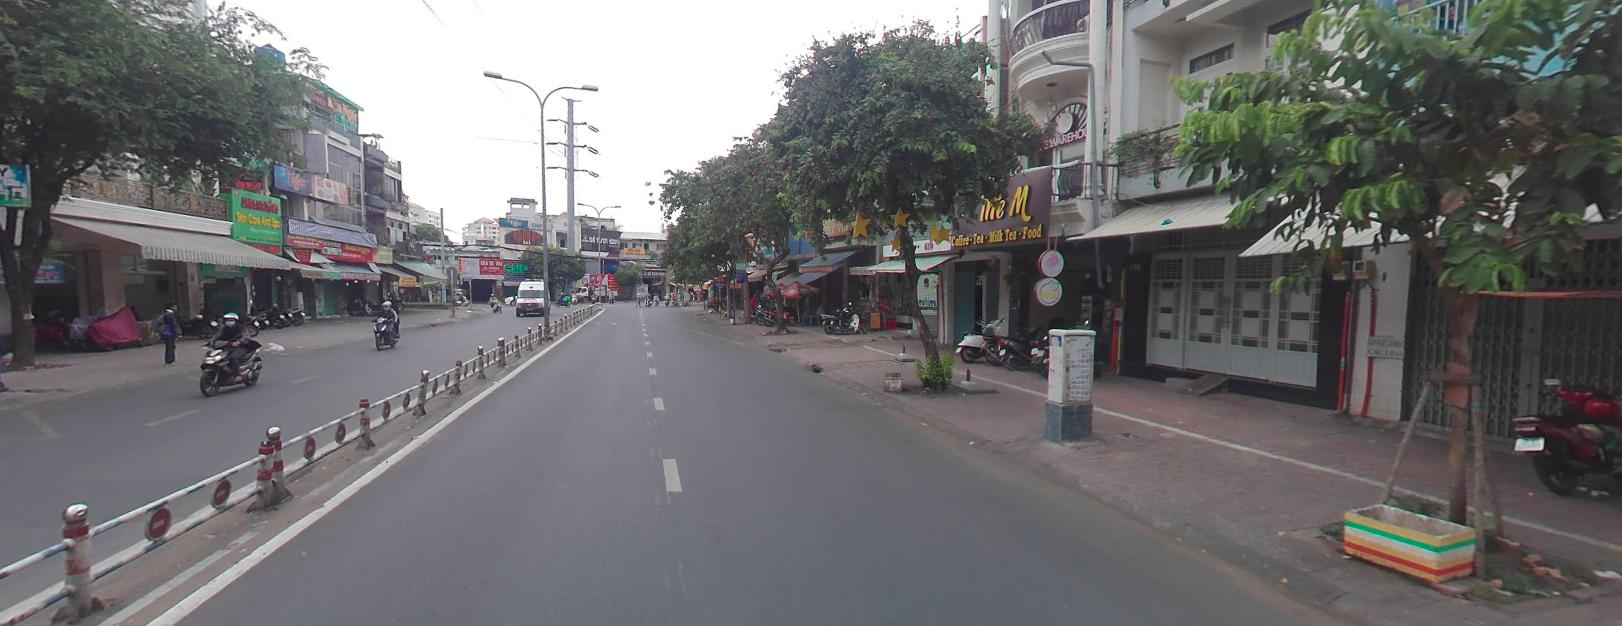Nguy hiem: (715, 272, 724, 280)
